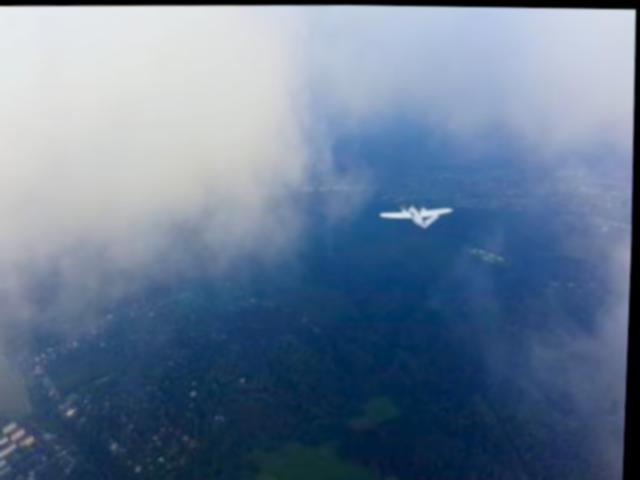uav: (378, 196, 456, 231)
